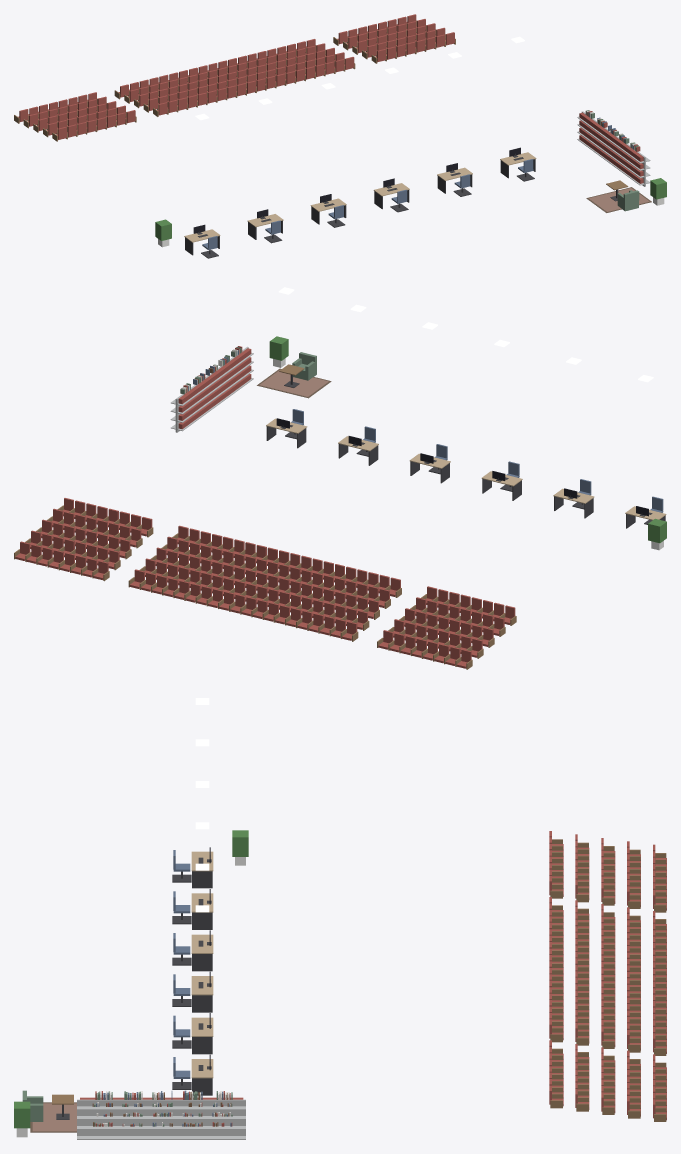
Rendered from fine-s1.glb.
The picture shows the model from 3 angles, top to bottom: view 1: azimuth 30°, elevation 25°; view 2: azimuth 150°, elevation 25°; view 3: azimuth 270°, elevation 25°; orthographic projection. The views are drawn at different scales.
Visible parts, largest first — view 1: balcony-seats, soft-s1, shelving.004, office-desk-real.000, office-desk-real.002, shelving.000, office-desk-real.003, office-desk-real.004, office-desk-real.005, office-desk-real.001, shelving.003, shelving.001 (+4 smaller); view 2: balcony-seats, soft-s1, shelving.000, shelving.001, shelving.003, shelving.002, office-desk-real.004, office-desk-real.005, office-desk-real.001, office-desk-real.003, office-desk-real.002, shelving.004; view 3: balcony-seats, soft-s1, shelving.000, shelving.004, shelving.002, shelving.003, shelving.001, office-desk-real.002, office-desk-real.004, office-desk-real.003, office-desk-real.005, office-desk-real.000 (+1 smaller).
Boxes of the visible parts, <box> form: balcony-seats: <box>14,14,455,141</box>; soft-s1: <box>585,110,651,212</box>; shelving.004: <box>622,144,650,186</box>; office-desk-real.000: <box>184,224,220,255</box>; office-desk-real.002: <box>310,194,346,224</box>; shelving.000: <box>577,111,598,152</box>; office-desk-real.003: <box>373,178,409,209</box>; office-desk-real.004: <box>437,163,472,193</box>; office-desk-real.005: <box>500,147,536,178</box>; office-desk-real.001: <box>247,209,283,239</box>; shelving.003: <box>610,137,630,176</box>; shelving.001: <box>588,119,610,160</box>; balcony-seats: <box>14,498,516,669</box>; soft-s1: <box>180,346,331,398</box>; shelving.000: <box>170,385,203,432</box>; shelving.001: <box>191,375,215,421</box>; shelving.003: <box>217,357,240,402</box>; shelving.002: <box>204,366,228,412</box>; office-desk-real.004: <box>338,436,378,465</box>; office-desk-real.005: <box>266,418,307,448</box>; office-desk-real.001: <box>553,488,594,518</box>; office-desk-real.003: <box>409,453,450,483</box>; office-desk-real.002: <box>481,471,522,500</box>; shelving.004: <box>230,346,253,392</box>; balcony-seats: <box>549,831,666,1121</box>; soft-s1: <box>30,1090,232,1132</box>; shelving.000: <box>197,1097,245,1139</box>; shelving.004: <box>77,1097,125,1139</box>; shelving.002: <box>137,1097,185,1139</box>; shelving.003: <box>107,1097,155,1139</box>; shelving.001: <box>167,1097,215,1139</box>; office-desk-real.002: <box>191,930,213,971</box>; office-desk-real.004: <box>191,1013,213,1054</box>; office-desk-real.003: <box>191,971,213,1012</box>; office-desk-real.005: <box>191,1054,213,1095</box>; office-desk-real.000: <box>191,847,213,888</box>.
Bounding box in the file's own units: 24.59 × 7.24 × 23.98.
